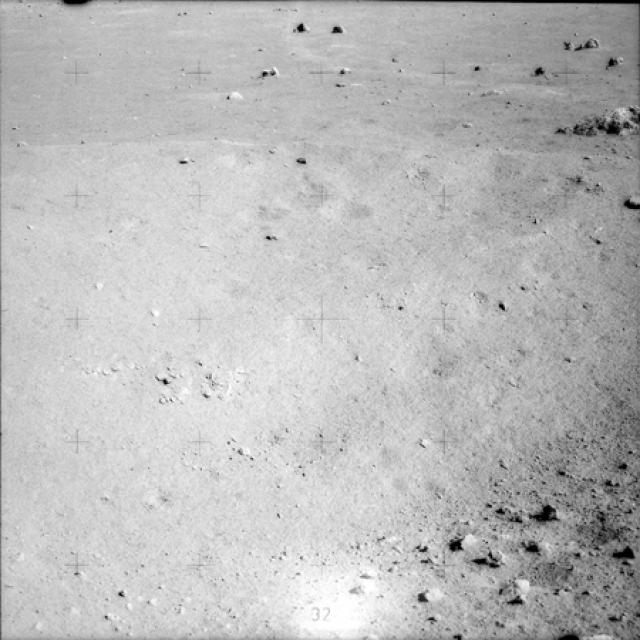crater: (286, 20, 307, 36)
rock: (584, 100, 638, 142), (528, 534, 555, 561), (504, 573, 533, 598), (480, 544, 506, 568), (612, 190, 639, 212), (254, 66, 288, 83), (451, 530, 476, 552), (577, 38, 606, 56), (414, 584, 439, 604), (610, 50, 625, 72), (529, 64, 549, 80), (222, 88, 244, 102), (328, 20, 345, 35)
